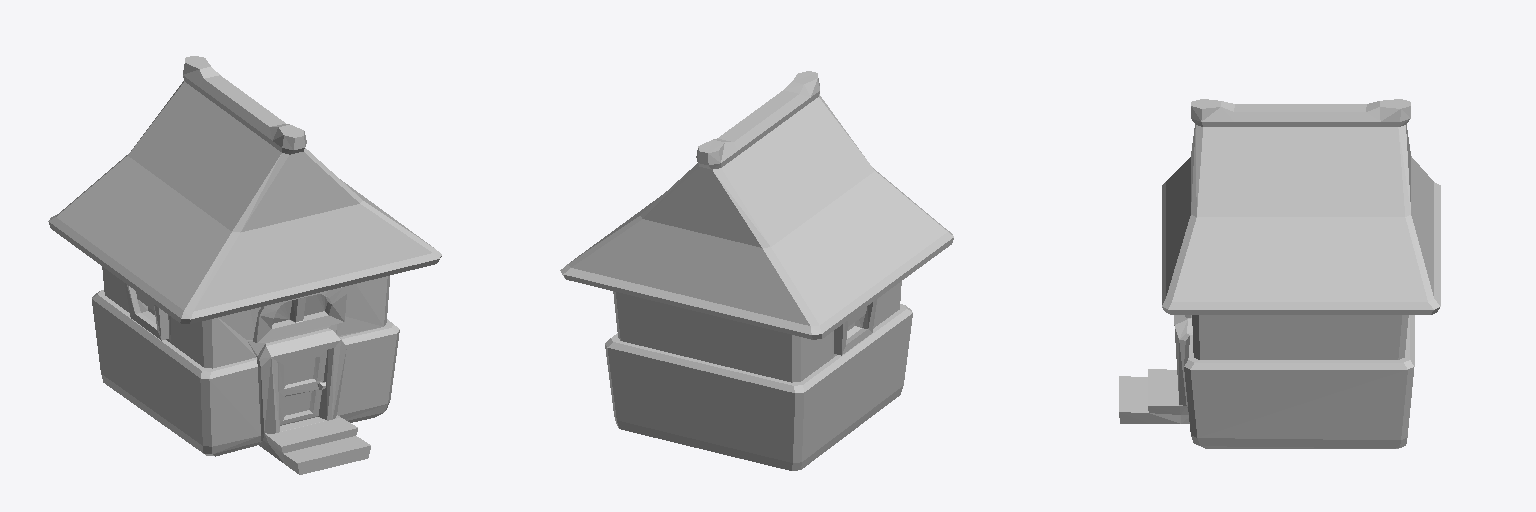
Rendered from small_house_2.obj.
The picture shows the model from 3 angles: view 1: azimuth 30°, elevation 25°; view 2: azimuth 150°, elevation 25°; view 3: azimuth 270°, elevation 25°; orthographic projection.
Visible parts, largest first — view 1: Cube; view 2: Cube; view 3: Cube.
Part boxes in pixels (bbox=[...]): Cube: bbox=[48, 56, 441, 474]; Cube: bbox=[560, 71, 953, 470]; Cube: bbox=[1119, 99, 1440, 448].
Bounding box in the file's own units: 3.22 × 3.58 × 3.44.